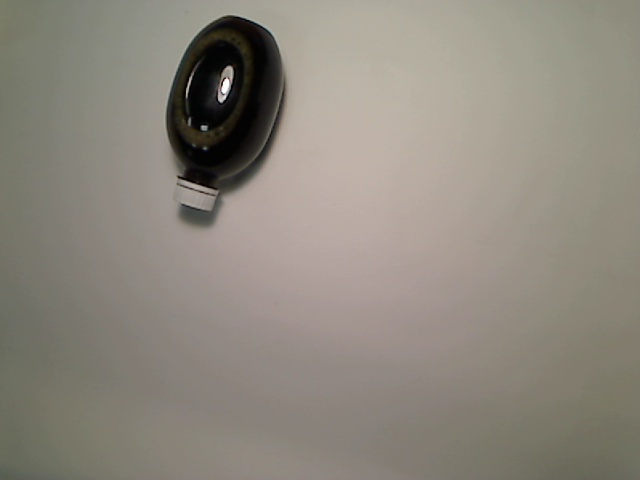plast_bottle: (164, 13, 289, 214)
